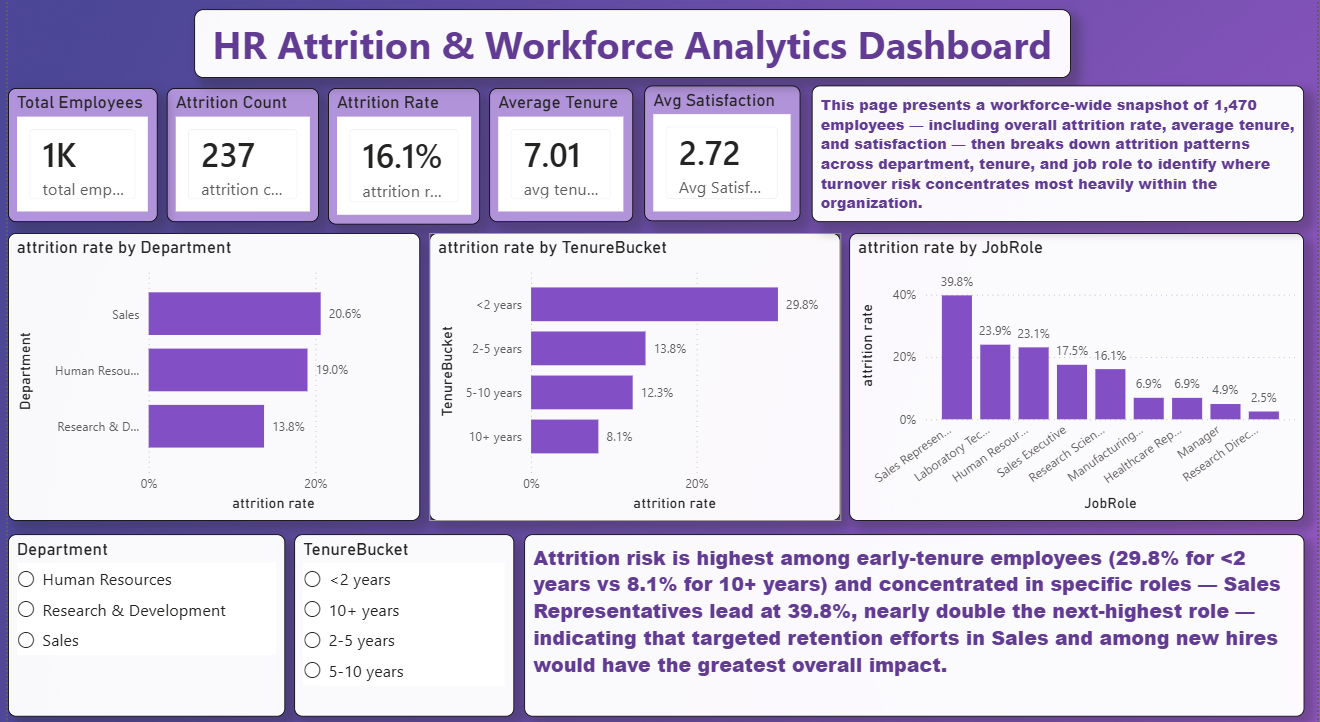

The page's visual inventory and layout, read from the dashboard file:
{"tool":"powerbi","page":{"name":"Page 1","canvas":[1280,720],"ordinal":0},"visuals":[{"type":"cardVisual","title":"Attrition Count","fields":{"Data":["HR_cleaned.attrition count"]},"box":[155.3,92.9,149.2,130.8],"z":0},{"type":"cardVisual","title":"Total Employees","fields":{"Data":["HR_cleaned.total employees"]},"box":[0,92.9,146.7,130.8],"z":1000},{"type":"cardVisual","title":"Attrition Rate","fields":{"Data":["HR_cleaned.attrition rate"]},"box":[313,92.9,149.2,133.3],"z":2000},{"type":"cardVisual","title":"Average Tenure","fields":{"Data":["HR_cleaned.avg tenure"]},"box":[470.8,92.9,140.6,130.8],"z":3000},{"type":"cardVisual","title":"Avg Satisfaction","fields":{"Data":["HR_cleaned.Avg Satisfaction"]},"box":[621.8,90.9,152.9,132.7],"z":4000},{"type":"textbox","box":[182.2,15.9,857.2,67.3],"z":5000},{"type":"barChart","fields":{"Category":["HR_cleaned.Department"],"Y":["HR_cleaned.attrition rate"]},"box":[0,234.8,403.5,281.3],"z":6000},{"type":"barChart","fields":{"Y":["HR_cleaned.attrition rate"],"Category":["HR_cleaned.TenureBucket"]},"box":[412.1,234.8,402.3,281.3],"z":7000},{"type":"columnChart","fields":{"Y":["HR_cleaned.attrition rate"],"Category":["HR_cleaned.JobRole"]},"box":[823,234.8,445.1,281.3],"z":8000},{"type":"listSlicer","fields":{"Values":["HR_cleaned.Department"]},"box":[0,529.5,271.5,178.5],"z":9000},{"type":"listSlicer","fields":{"Values":["HR_cleaned.TenureBucket"]},"box":[280,529.5,215.2,178.5],"z":9001},{"type":"textbox","box":[786.3,90.5,481.8,133.3],"z":9002},{"type":"textbox","box":[505,529.5,763,178.5],"z":9003}]}

Visuals, with their boxes in screenshot pixels (x1, y1, x2, y2), scaled from the page's 1280x720 canvas onto the 1320x722 screenshot:
"Attrition Count" cardVisual: select_region(160, 93, 314, 224)
"Total Employees" cardVisual: select_region(0, 93, 151, 224)
"Attrition Rate" cardVisual: select_region(323, 93, 477, 227)
"Average Tenure" cardVisual: select_region(486, 93, 631, 224)
"Avg Satisfaction" cardVisual: select_region(641, 91, 799, 224)
textbox: select_region(188, 16, 1072, 83)
barChart - HR_cleaned.Department x HR_cleaned.attrition rate: select_region(0, 235, 416, 518)
barChart - HR_cleaned.attrition rate x HR_cleaned.TenureBucket: select_region(425, 235, 840, 518)
columnChart - HR_cleaned.attrition rate x HR_cleaned.JobRole: select_region(849, 235, 1308, 518)
listSlicer - HR_cleaned.Department: select_region(0, 531, 280, 710)
listSlicer - HR_cleaned.TenureBucket: select_region(289, 531, 511, 710)
textbox: select_region(811, 91, 1308, 224)
textbox: select_region(521, 531, 1308, 710)
